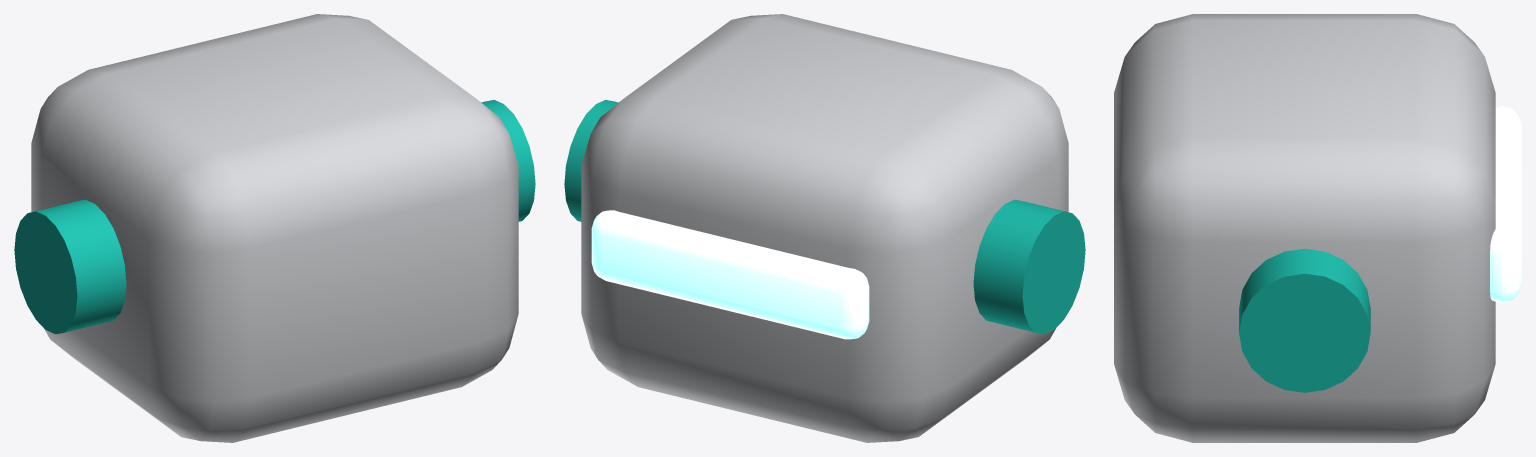
Rendered from head_box.glb.
The picture shows the model from 3 angles, left to right: view 1: azimuth 30°, elevation 25°; view 2: azimuth 150°, elevation 25°; view 3: azimuth 270°, elevation 25°; orthographic projection. The views are drawn at different scales.
Parts seen in each view (by area): view 1: Box, Ear-1, Ear1; view 2: Box, Strip, Ear-1, Ear1; view 3: Box, Ear1, Strip.
Boxes of the visible parts, x1,y1,x2,y2 form: Box: (31,14,518,442); Ear-1: (14,199,126,334); Ear1: (481,100,535,221); Box: (581,14,1068,442); Strip: (591,210,869,339); Ear-1: (973,199,1085,334); Ear1: (564,100,618,221); Box: (1114,14,1495,442); Ear1: (1239,248,1370,392); Strip: (1490,106,1521,303).
Bounding box in the file's own units: 0.84 × 0.5 × 0.62.
